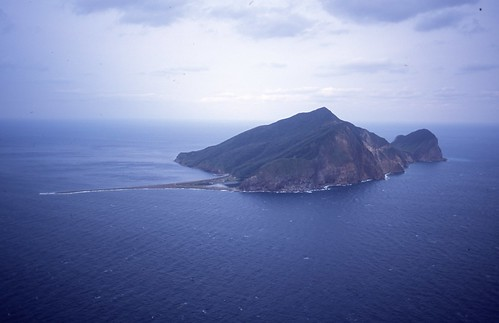turtleIslandTop: (170, 99, 453, 206)
